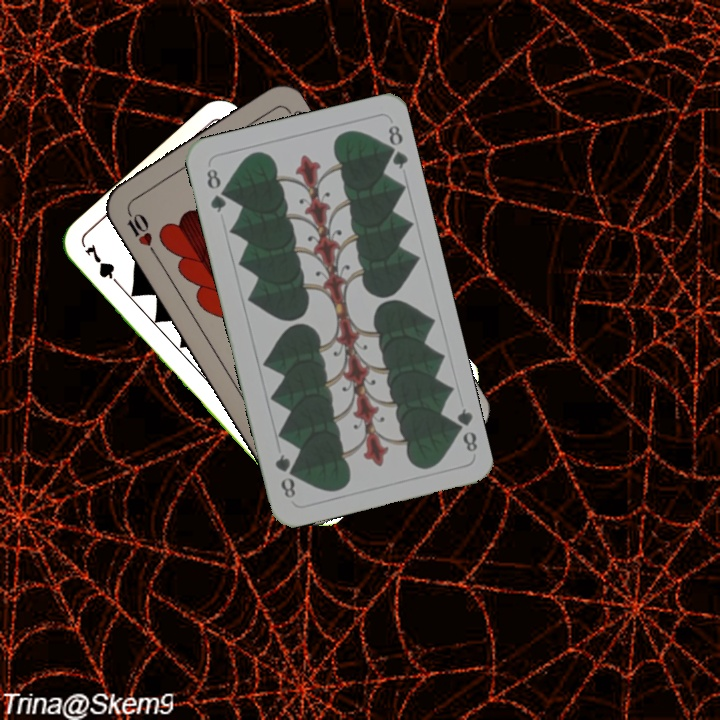G7: (81, 240, 125, 292)
G8: (447, 404, 480, 455), (202, 164, 229, 216)
H10: (122, 204, 159, 258)
